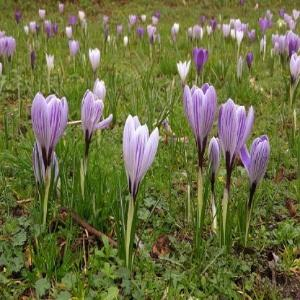Saffron: (122, 115, 160, 195), (32, 90, 68, 166), (220, 99, 254, 171), (183, 85, 216, 150), (238, 134, 272, 194), (81, 88, 113, 146), (192, 47, 209, 73), (289, 54, 300, 83), (89, 47, 101, 73)
